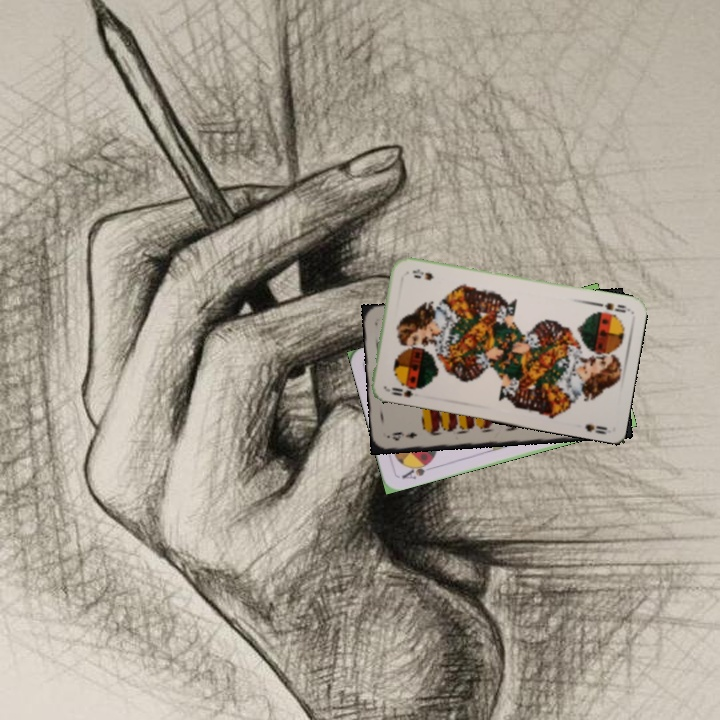E9: (388, 428, 420, 443)
SA: (398, 457, 434, 482)
SO: (384, 381, 425, 400), (591, 298, 631, 315)
